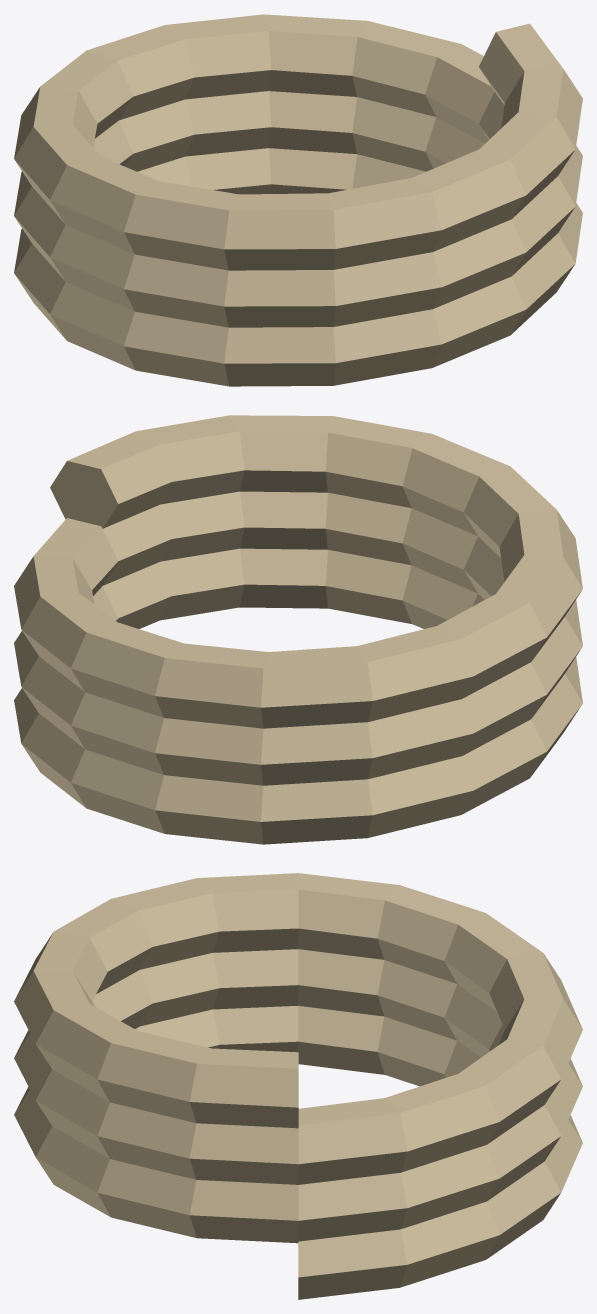
File: prop-rope-coil-bs1.fbx
The picture shows the model from 3 angles, top to bottom: view 1: azimuth 30°, elevation 25°; view 2: azimuth 150°, elevation 25°; view 3: azimuth 270°, elevation 25°; orthographic projection.
Parts seen in each view (by area): view 1: prop-rope-coil-bs1; view 2: prop-rope-coil-bs1; view 3: prop-rope-coil-bs1.
Part boxes in pixels (bbox=[...]): prop-rope-coil-bs1: bbox=[14, 14, 582, 386]; prop-rope-coil-bs1: bbox=[14, 415, 582, 844]; prop-rope-coil-bs1: bbox=[14, 873, 582, 1299].
Size of the model in its own units: 51 by 22.86 by 51.
